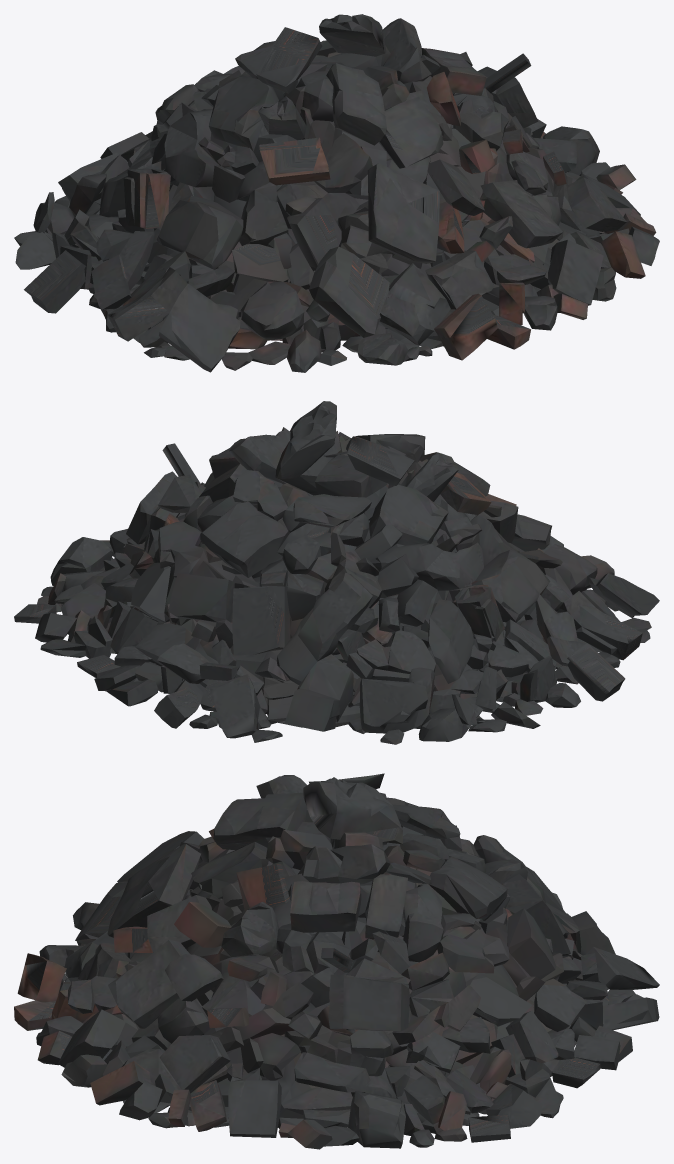
File: charred_rubble_pile.glb
3 renders of one model, top to bottom at view 1: azimuth 30°, elevation 25°; view 2: azimuth 150°, elevation 25°; view 3: azimuth 270°, elevation 25°, orthographic. The views are drawn at different scales.
Size of the model in its own units: 1.9 by 0.7096 by 1.73.
Materials: 1 (1 with a texture image).
